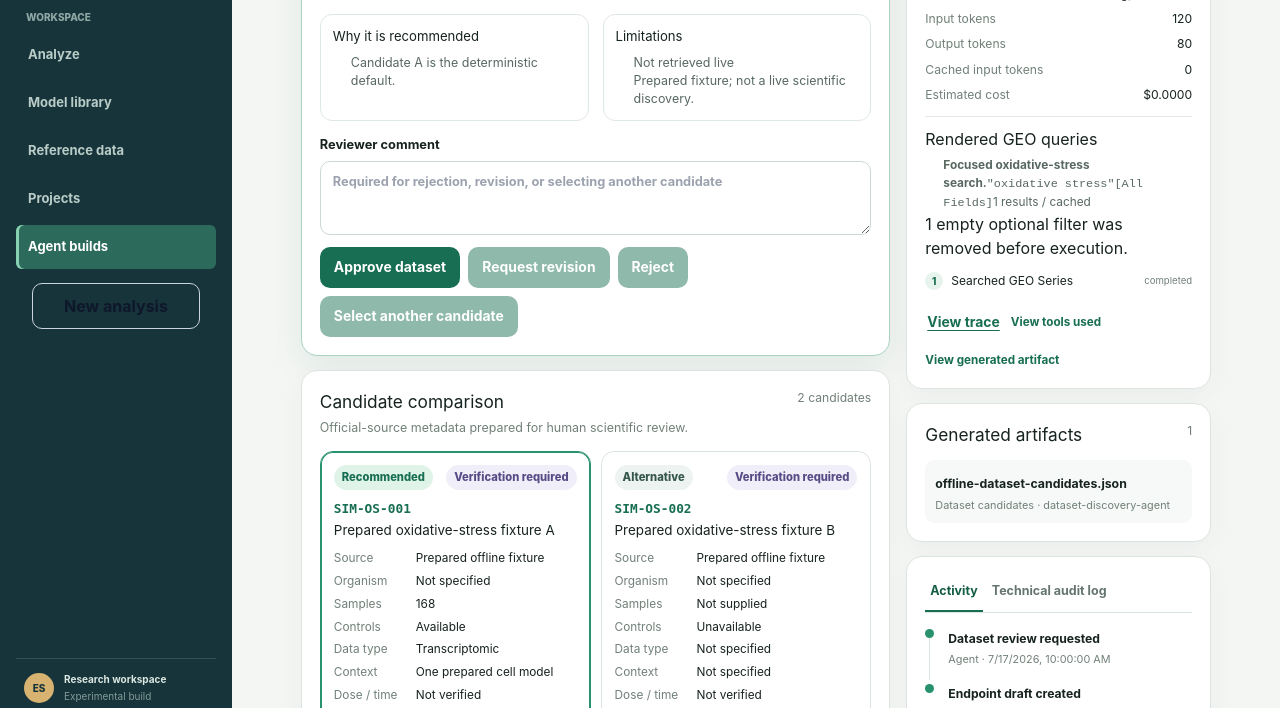
Scenario: bounded-discovery live discovery presentation › presents safe optional-filter normalization only as secondary trace detail
(page scrolled)
Expected: the text "1 empty optional filter was removed before execution." is shown, [925,214,1128,258]
Click the button "View trace". click: (964, 323)
box: [925,302,1002,343]
(page scrolled)
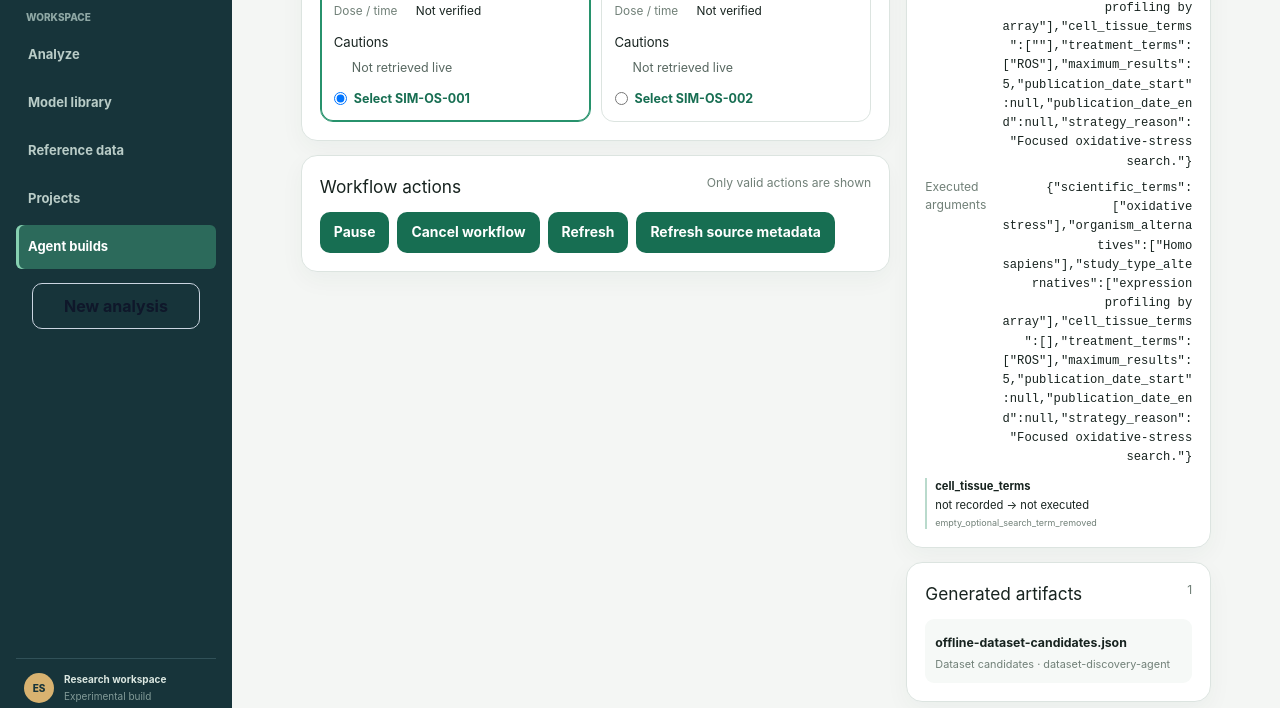
Result: the text "empty_optional_search_term_removed" is shown 2 times
Result: the text "\"cell_tissue_terms\":[]" is shown at [1002,181,1192,464]
